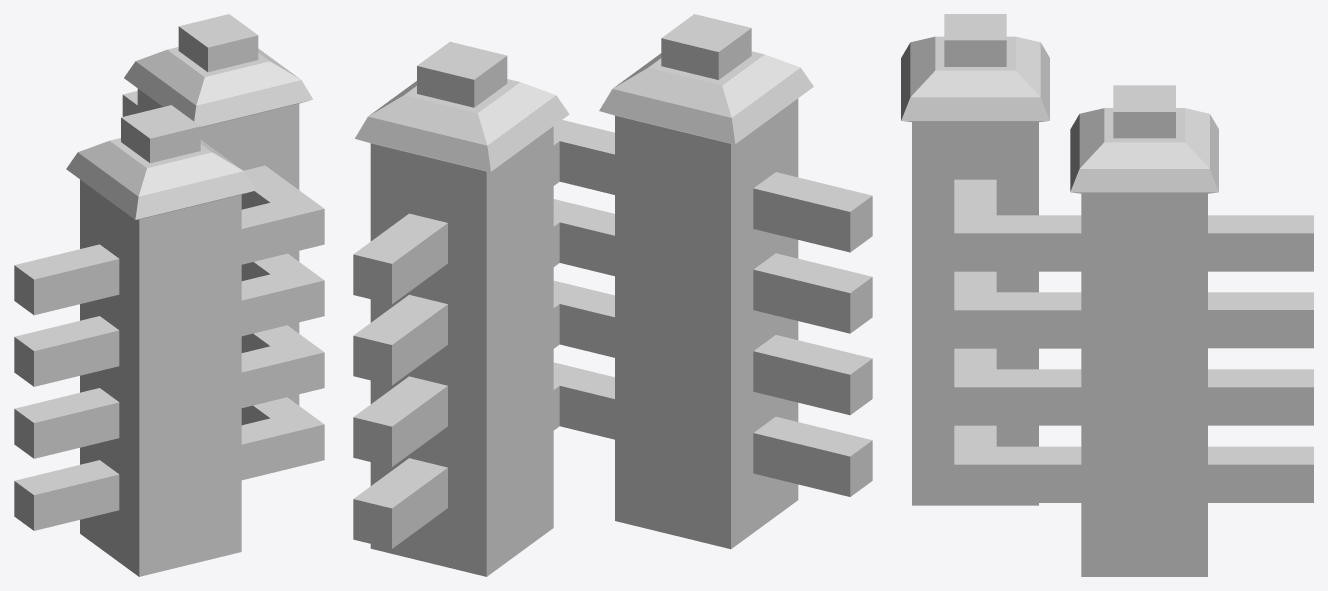
Rendered from Fence_02_Cornor.fbx.
3 renders of one model, left to right at view 1: azimuth 30°, elevation 25°; view 2: azimuth 150°, elevation 25°; view 3: azimuth 270°, elevation 25°, orthographic. The views are drawn at different scales.
Parts seen in each view (by area): view 1: Fence_02_Cornor_Body; view 2: Fence_02_Cornor_Body; view 3: Fence_02_Cornor_Body.
Boxes of the visible parts, x1,y1,x2,y2 form: Fence_02_Cornor_Body: [14, 14, 324, 576]; Fence_02_Cornor_Body: [353, 14, 872, 576]; Fence_02_Cornor_Body: [901, 14, 1313, 576].
Bounding box in the file's own units: 4.88 × 5.89 × 4.88.
